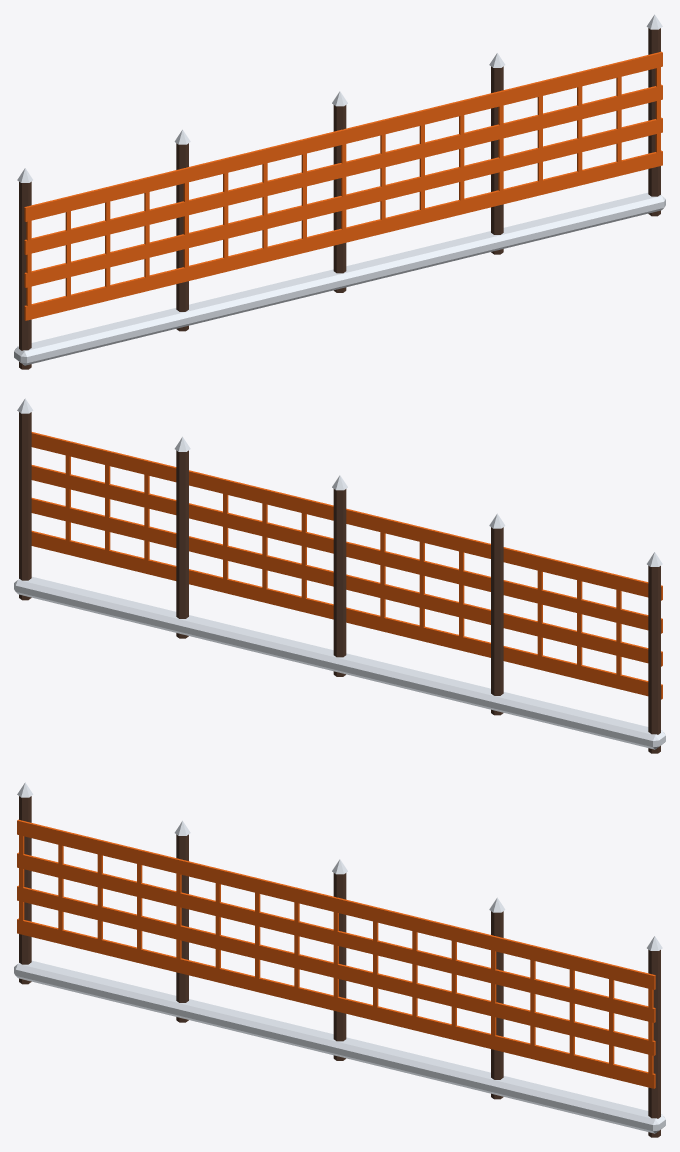
Rendered from snow_fence.obj.
3 views of the same model, one above another, from view 1: azimuth 30°, elevation 25°; view 2: azimuth 150°, elevation 25°; view 3: azimuth 330°, elevation 25° (orthographic).
Visible parts, largest first — view 1: snow_fence; view 2: snow_fence; view 3: snow_fence.
Part boxes in pixels (x1,y1,x2,y2): snow_fence: (14,14,665,369); snow_fence: (14,398,665,753); snow_fence: (14,782,665,1137).
Size of the model in its own units: 16.4 by 4.85 by 0.5.
Materials: 1 (1 with a texture image).
